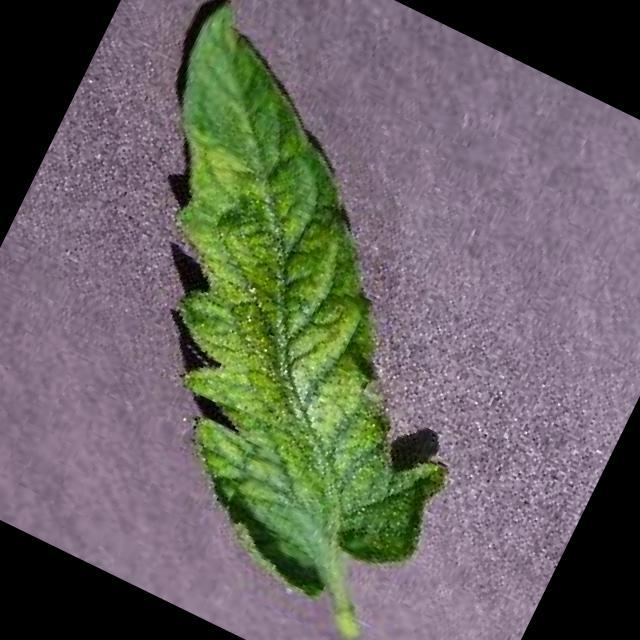Tomato mosaic virus leaf: (0, 0, 597, 632)
